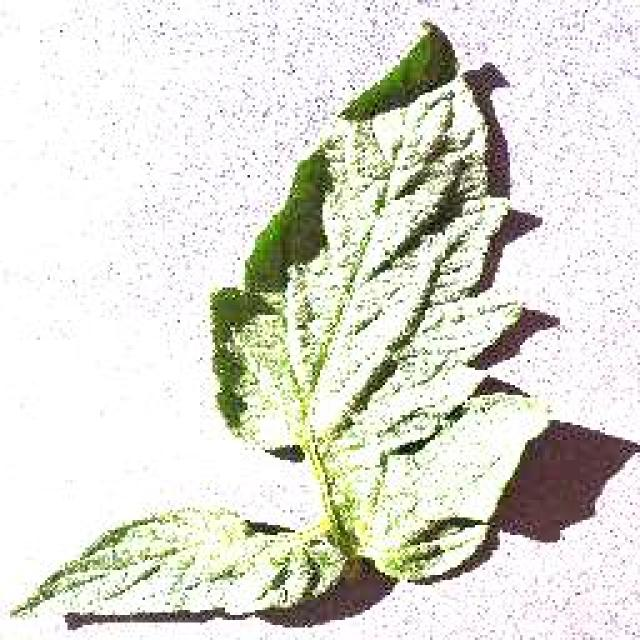Tomato___healthy: (7, 25, 553, 618)
